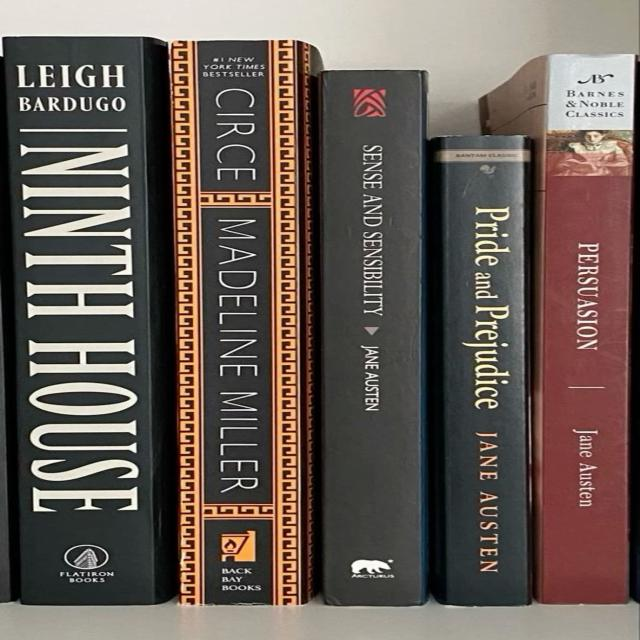book: (3, 37, 169, 603), (481, 54, 635, 604), (170, 40, 313, 605), (320, 70, 427, 606), (430, 136, 531, 606)
